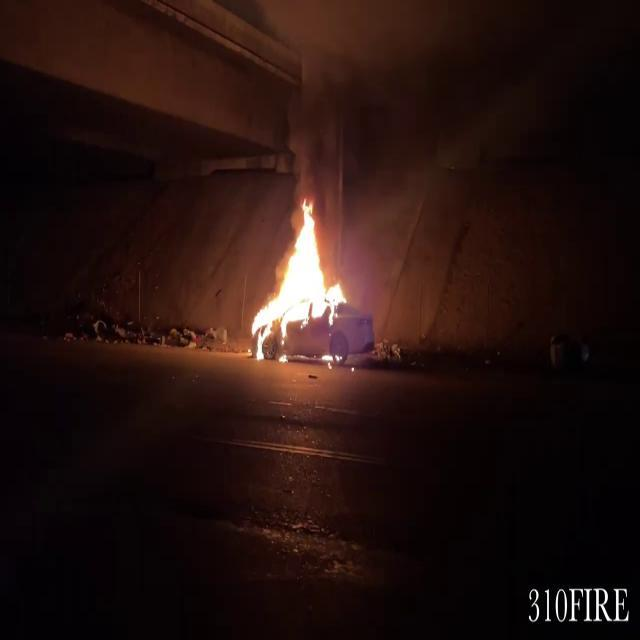Fire: (244, 189, 354, 360)
Smoke: (279, 71, 351, 206)
